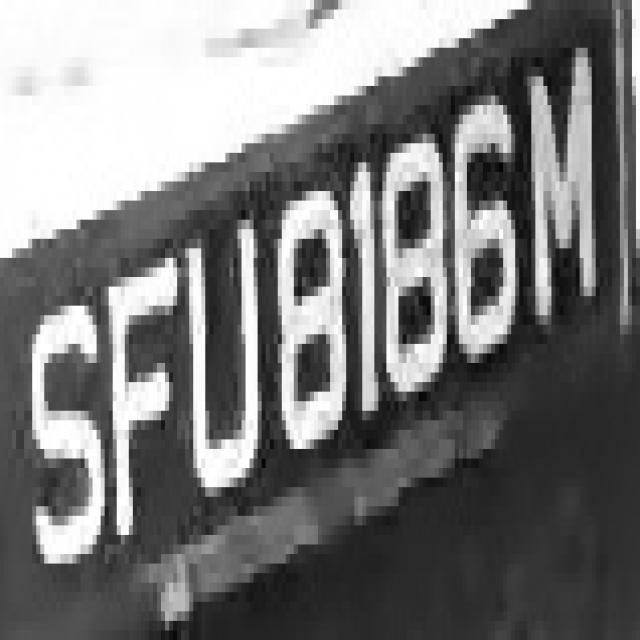1: (351, 153, 386, 458)
6: (447, 86, 519, 373)
8: (266, 124, 346, 468), (378, 115, 455, 449)
F: (101, 239, 181, 535)
M: (511, 48, 604, 334)
S: (28, 248, 105, 583)
U: (173, 182, 266, 526)
